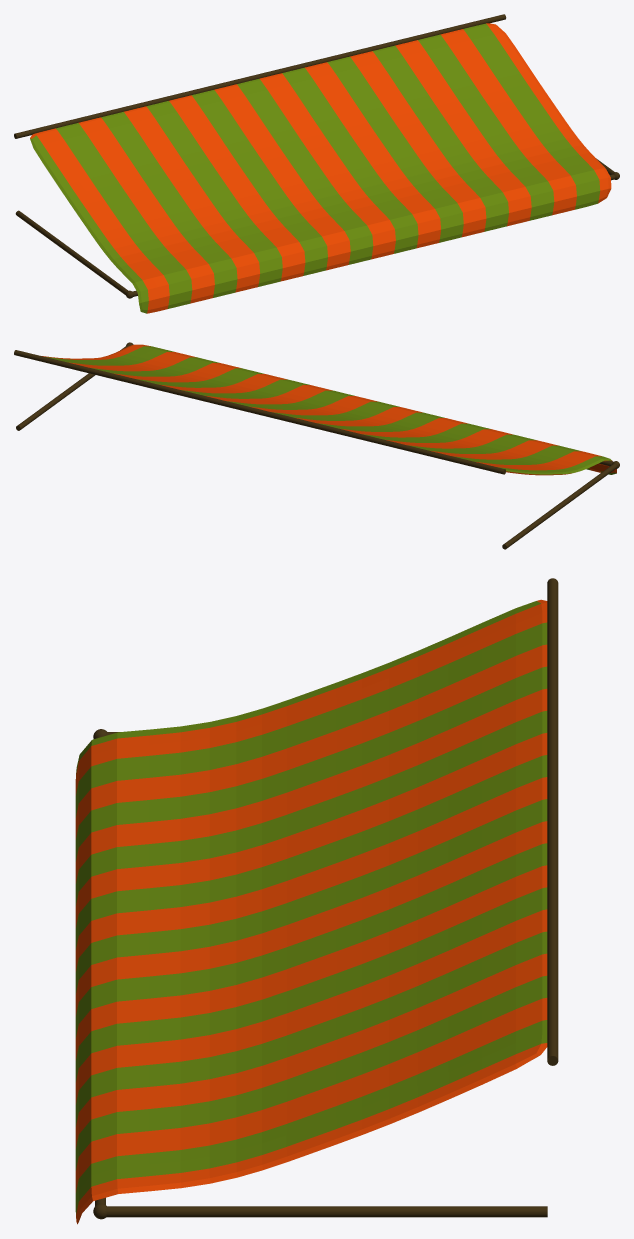
File: awning.fbx
3 renders of one model, top to bottom at view 1: azimuth 30°, elevation 25°; view 2: azimuth 150°, elevation 25°; view 3: azimuth 270°, elevation 25°, orthographic. The views are drawn at different scales.
Visible parts, largest first — view 1: Cylinder; view 2: Cylinder; view 3: Cylinder.
Boxes of the visible parts, x1,y1,x2,y2 form: Cylinder: (14, 14, 619, 313); Cylinder: (14, 342, 619, 549); Cylinder: (75, 578, 558, 1224).
Size of the model in its own units: 2.08 by 0.3871 by 0.8798.
